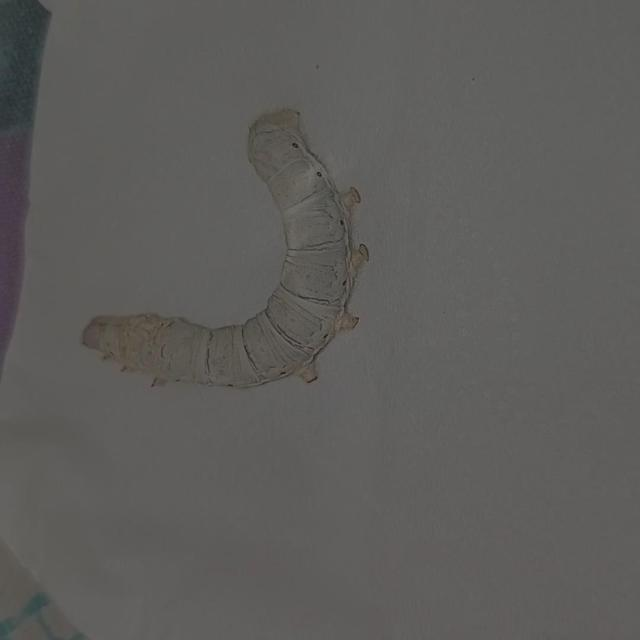Healthy: (64, 88, 385, 417)
